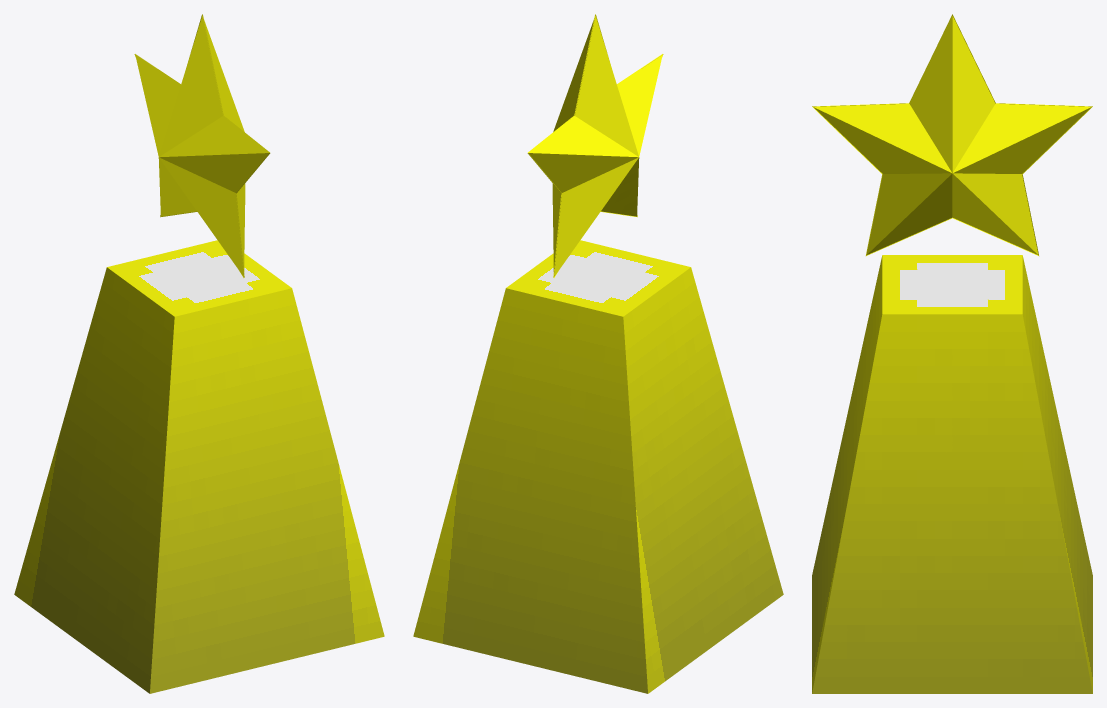
The model's file is totem_test_1.gltf.
3 views of the same model, side by side, from view 1: azimuth 30°, elevation 25°; view 2: azimuth 150°, elevation 25°; view 3: azimuth 270°, elevation 25° (orthographic). The views are drawn at different scales.
Parts seen in each view (by area): view 1: group, cylinder (×2); view 2: group, cylinder (×2); view 3: group, cylinder (×2).
Part boxes in pixels (box(x1,y1,x2,y2)): group: box(14, 240, 384, 693); cylinder (×2): box(134, 14, 270, 277); group: box(413, 240, 783, 693); cylinder (×2): box(527, 14, 663, 277); group: box(812, 255, 1092, 693); cylinder (×2): box(812, 14, 1092, 255).
Size of the model in its own units: 1 by 2.44 by 1.
Materials: 1 (1 with a texture image).
